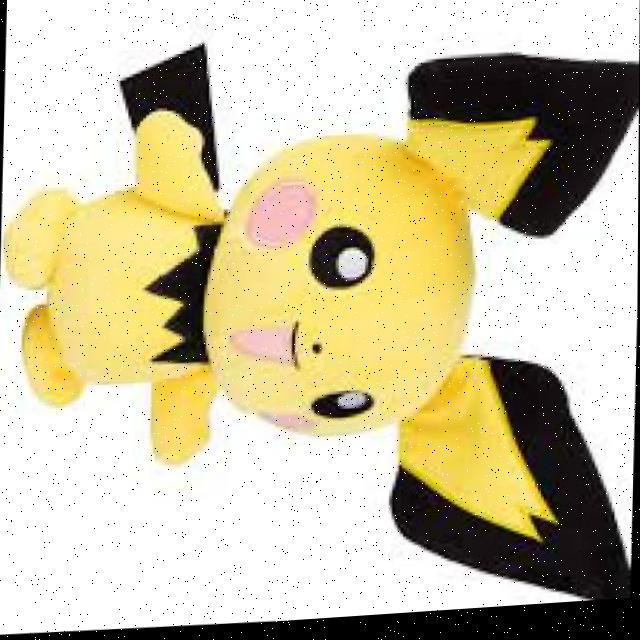pichu: (3, 10, 640, 640)
